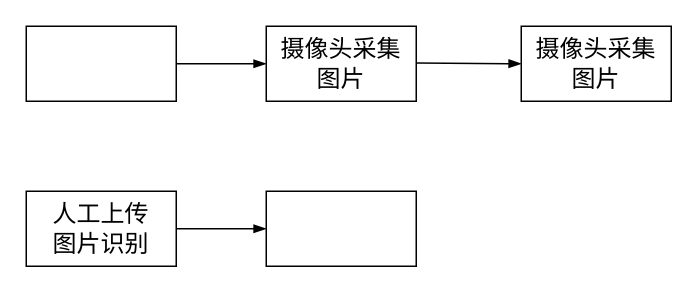
This 698x293 diagram has some shape labels left out. Each missing label, with the centre of its shape:
"人工上传 图片" goes at [340,228].
"摄像头拍照 自动识别" goes at [100,63].
